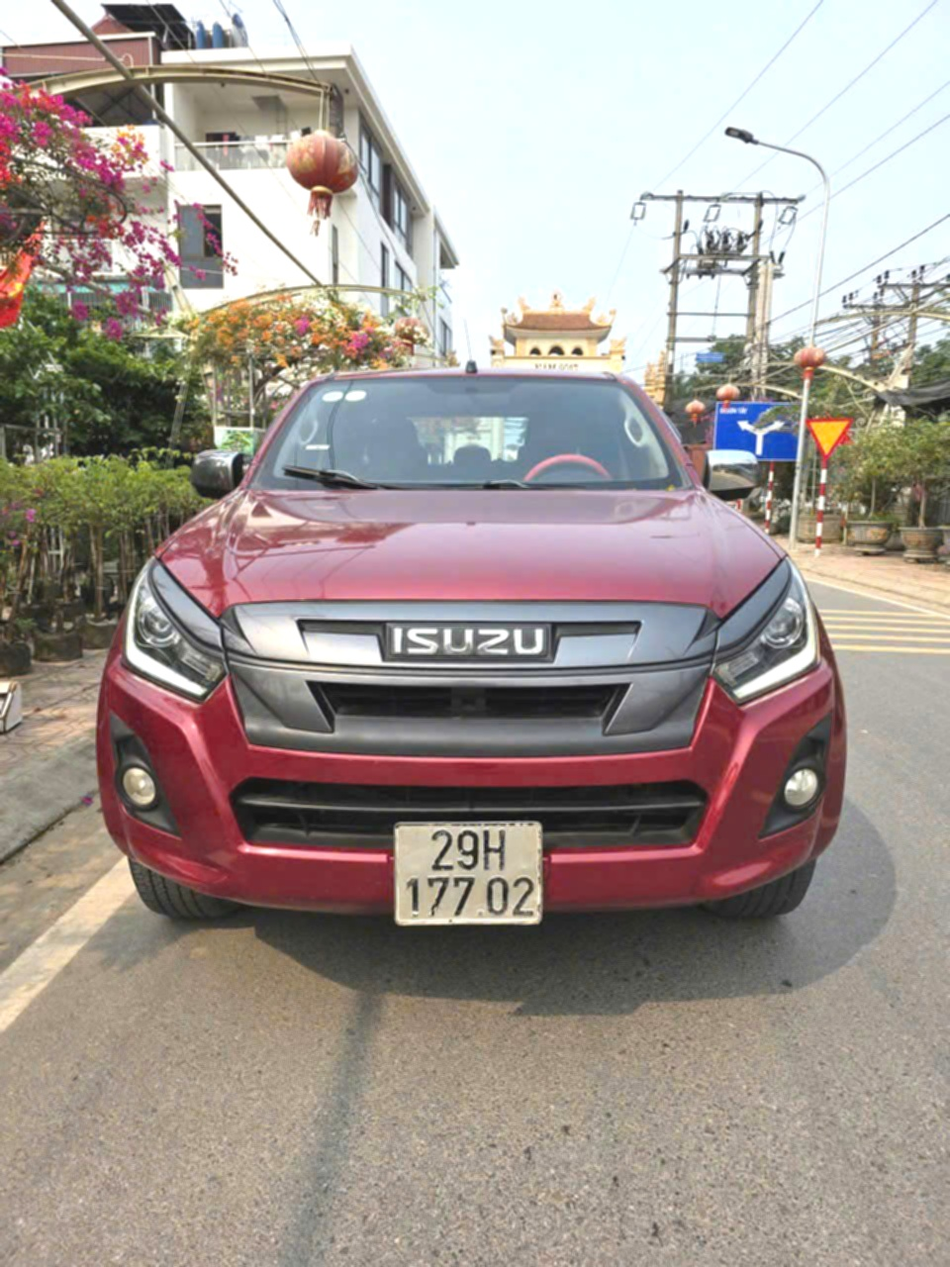Bien-so: (432, 838, 597, 953)
